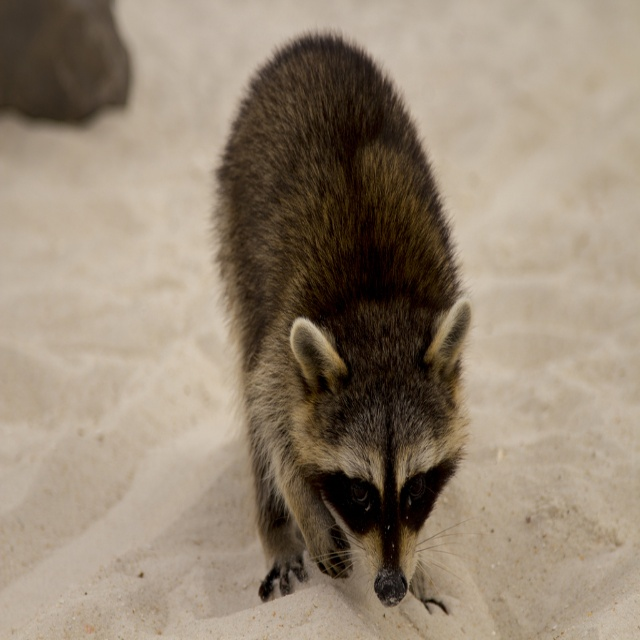Raccoon: (199, 20, 486, 615)
